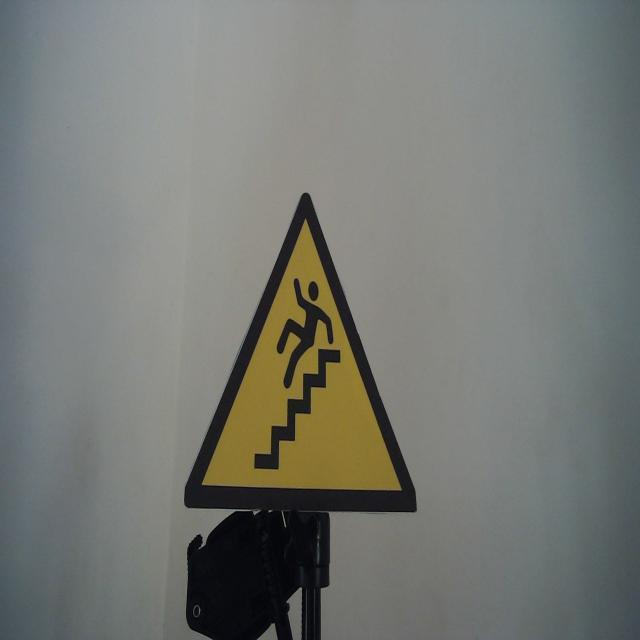stairs: (182, 192, 418, 516)
